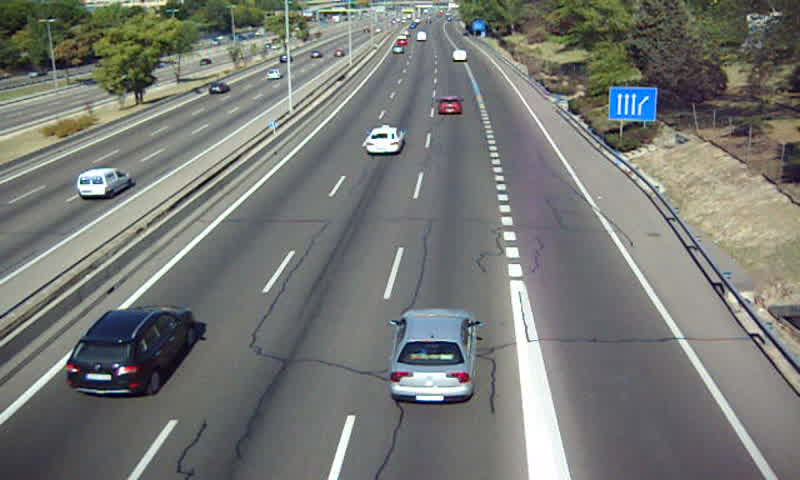car: (66, 304, 194, 395), (390, 307, 478, 405), (366, 125, 405, 153), (437, 96, 461, 116)
